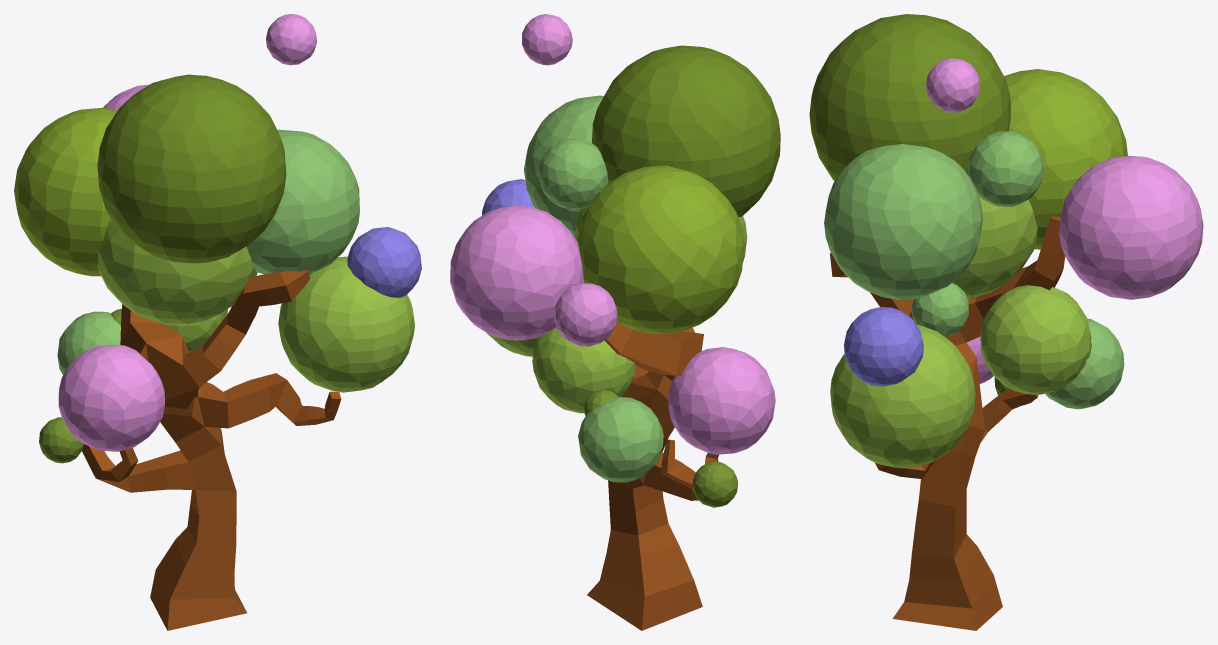
File: tree no 5.fbx
The picture shows the model from 3 angles, left to right: view 1: azimuth 30°, elevation 25°; view 2: azimuth 150°, elevation 25°; view 3: azimuth 270°, elevation 25°; orthographic projection. The views are drawn at different scales.
Parts seen in each view (by area): view 1: Sphere.084, Cube.004; view 2: Sphere.084, Cube.004; view 3: Sphere.084, Cube.004.
Boxes of the visible parts, x1,y1,x2,y2 form: Sphere.084: (14, 14, 421, 463); Cube.004: (82, 270, 341, 630); Sphere.084: (450, 14, 780, 507); Cube.004: (587, 321, 718, 630); Sphere.084: (809, 14, 1203, 468); Cube.004: (830, 216, 1065, 630).
Size of the model in its own units: 371 by 633 by 372.
